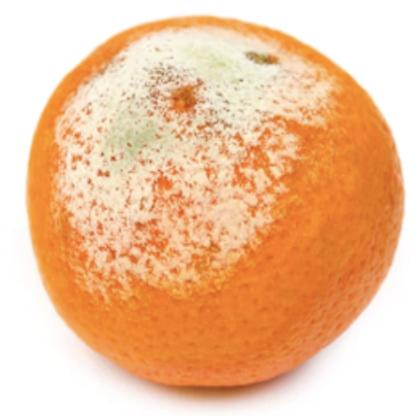rotten: (29, 14, 407, 394)
